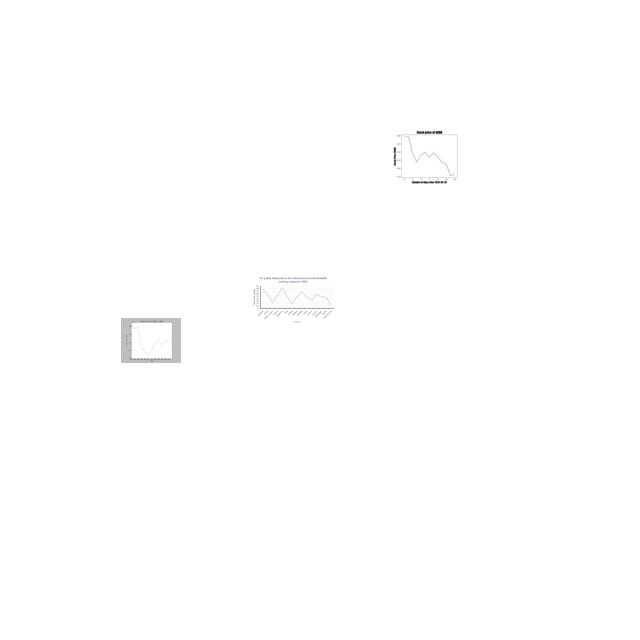Graph: (391, 128, 466, 184), (251, 275, 335, 325), (121, 318, 181, 363)
